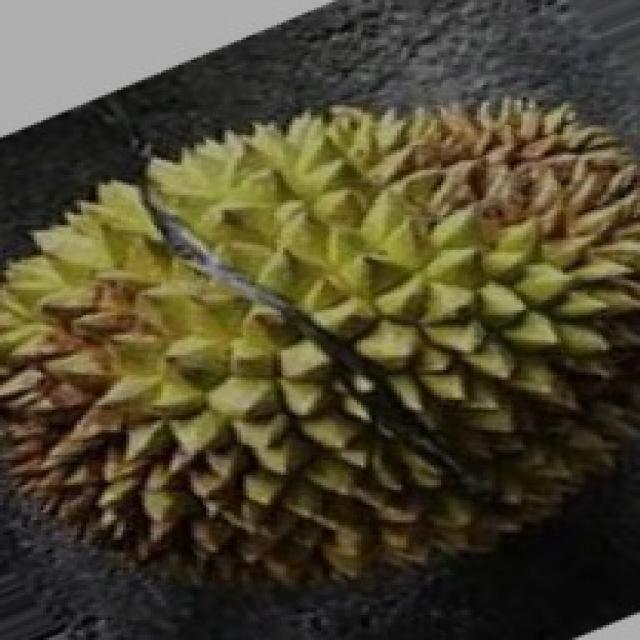fruit: (267, 244, 640, 637), (3, 282, 348, 640)
